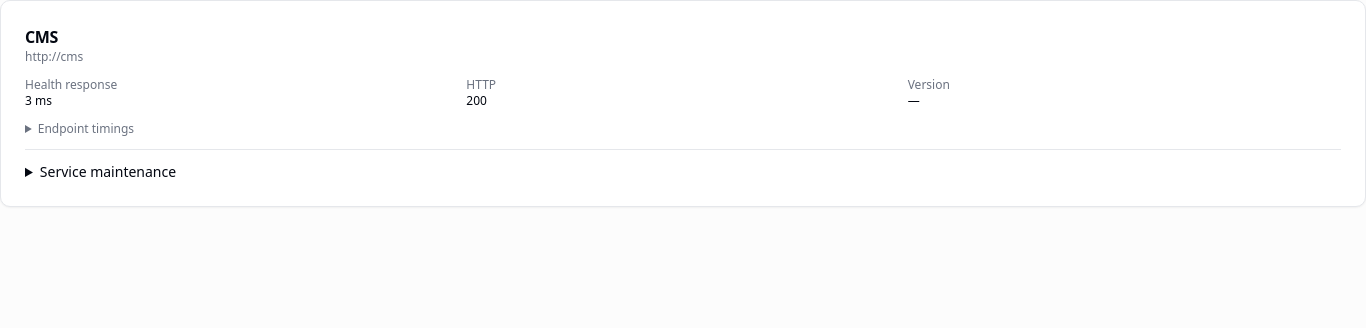
it: separates health response time from readiness endpoint timing
Expected: the text "Health response" is shown, [25, 76, 117, 93]
Click the heading "Endpoint timings" at (86, 128), box [38, 120, 134, 137]
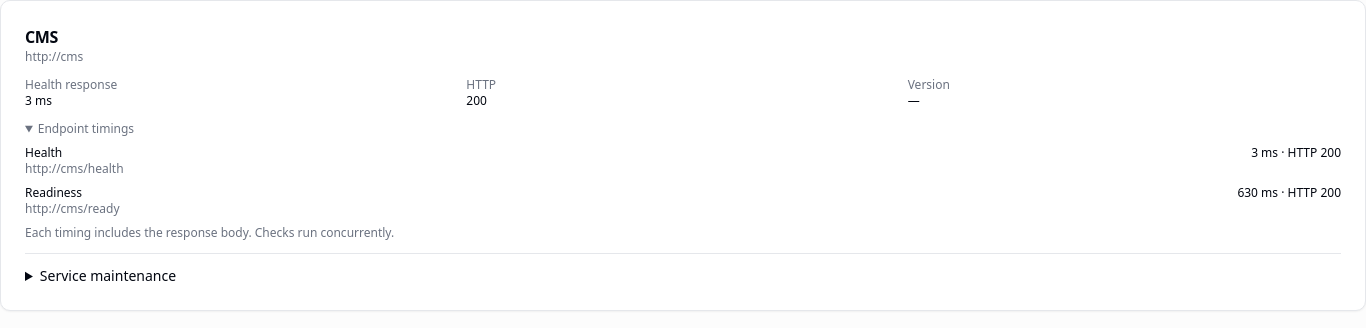
Expected: the text "Readiness" is shown, [25, 185, 82, 201]
Expected: the text "630 ms · HTTP 200" is shown, [1237, 185, 1341, 201]
